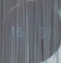No waiting: (7, 4, 58, 56)
